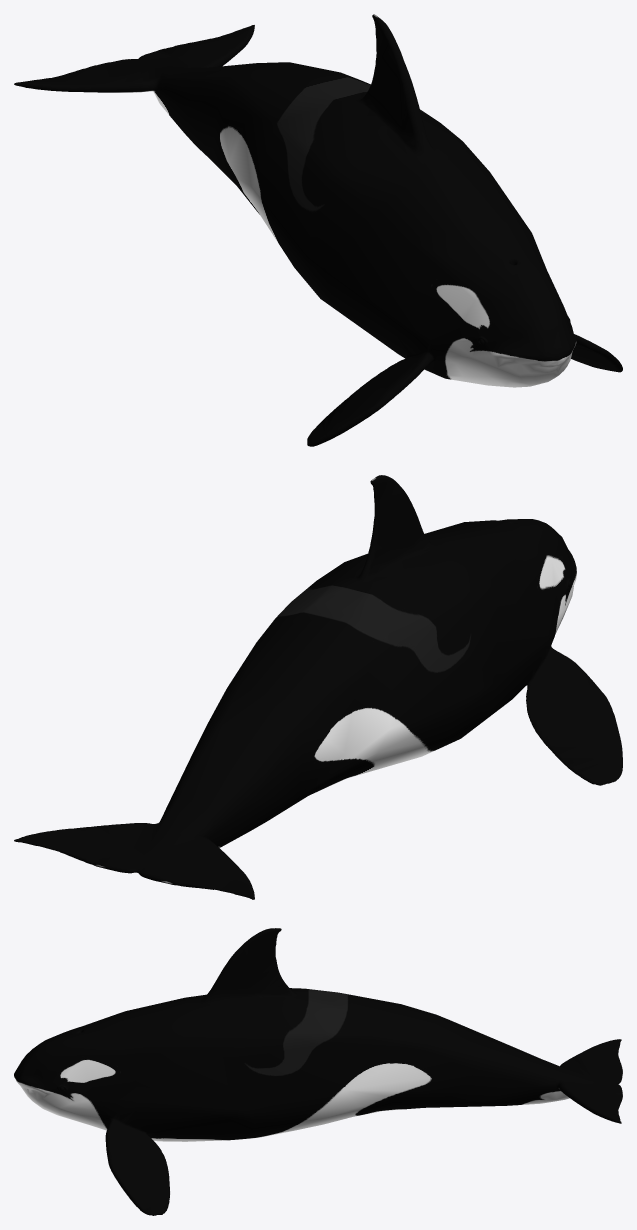
Rendered from orca.glb.
The picture shows the model from 3 angles, top to bottom: view 1: azimuth 30°, elevation 25°; view 2: azimuth 150°, elevation 25°; view 3: azimuth 270°, elevation 25°; orthographic projection. The views are drawn at different scales.
Parts seen in each view (by area): view 1: 3DSMeshMatrix; view 2: 3DSMeshMatrix; view 3: 3DSMeshMatrix.
Part boxes in pixels (box(x1,y1,x2,y2)): 3DSMeshMatrix: box(14, 14, 622, 446); 3DSMeshMatrix: box(14, 475, 622, 899); 3DSMeshMatrix: box(14, 928, 622, 1215).
Bounding box in the file's own units: 1798 × 1828 × 4283.
Materials: 3 (2 with a texture image).
